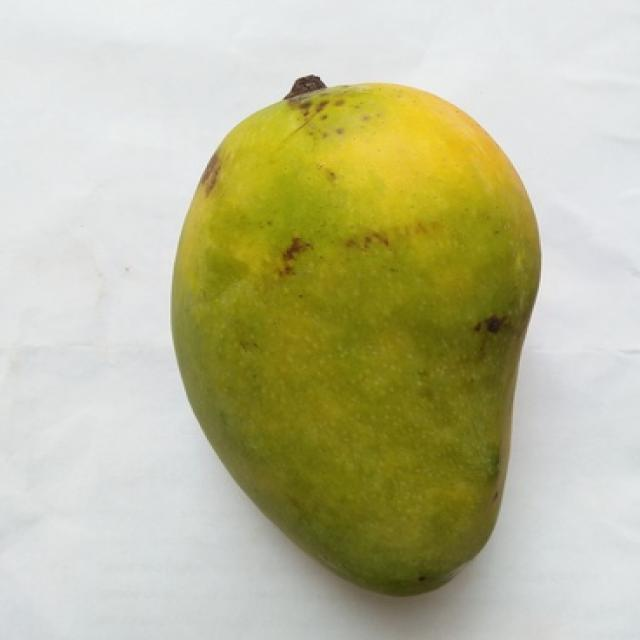Mango: (172, 84, 539, 594)
